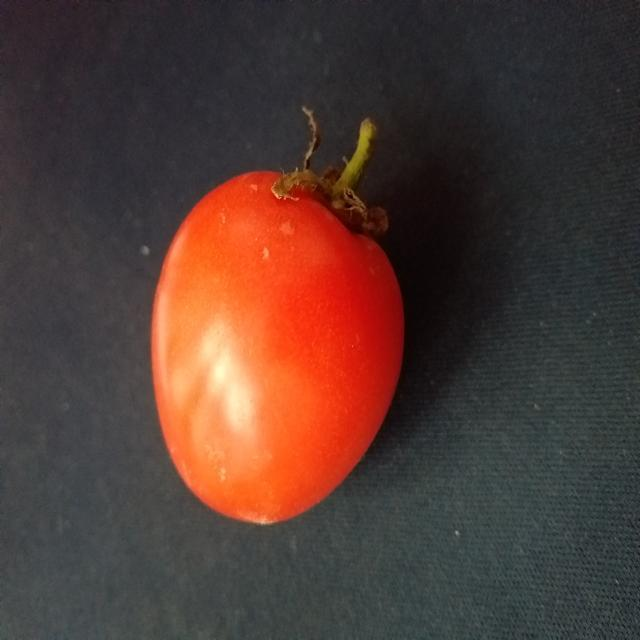tomato: (120, 154, 440, 547)
